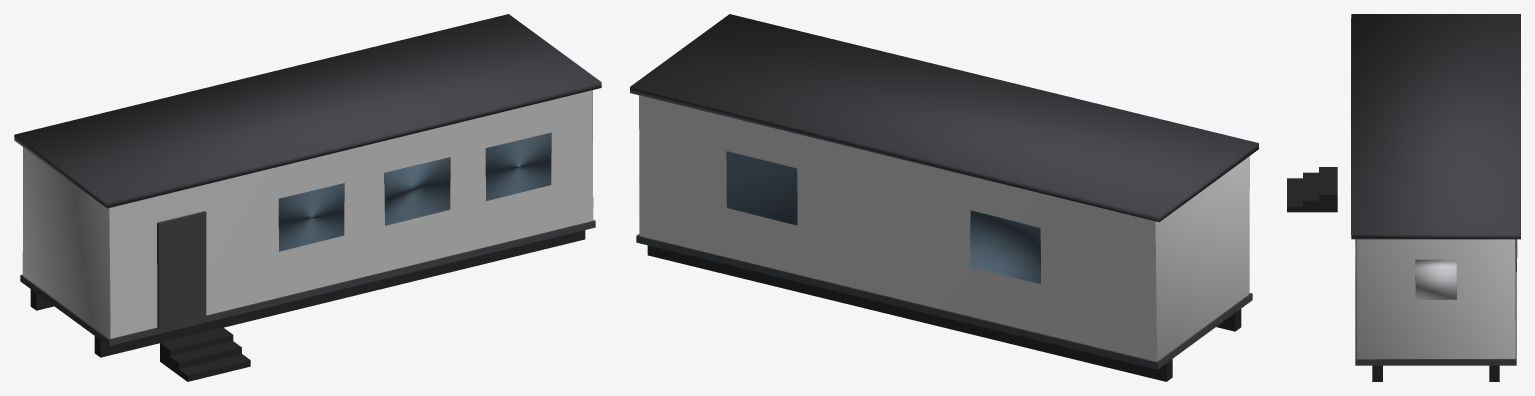
File: site_office_LOD1.glb
3 renders of one model, left to right at view 1: azimuth 30°, elevation 25°; view 2: azimuth 150°, elevation 25°; view 3: azimuth 270°, elevation 25°, orthographic. The views are drawn at different scales.
Parts seen in each view (by area): view 1: Body_LOD1; view 2: Body_LOD1; view 3: Body_LOD1.
Part boxes in pixels (x1=…): Body_LOD1: x1=14, y1=14, x2=601, y2=381; Body_LOD1: x1=630, y1=14, x2=1258, y2=381; Body_LOD1: x1=1287, y1=14, x2=1520, y2=381.
Bounding box in the file's own units: 10.14 × 3.12 × 4.4.
